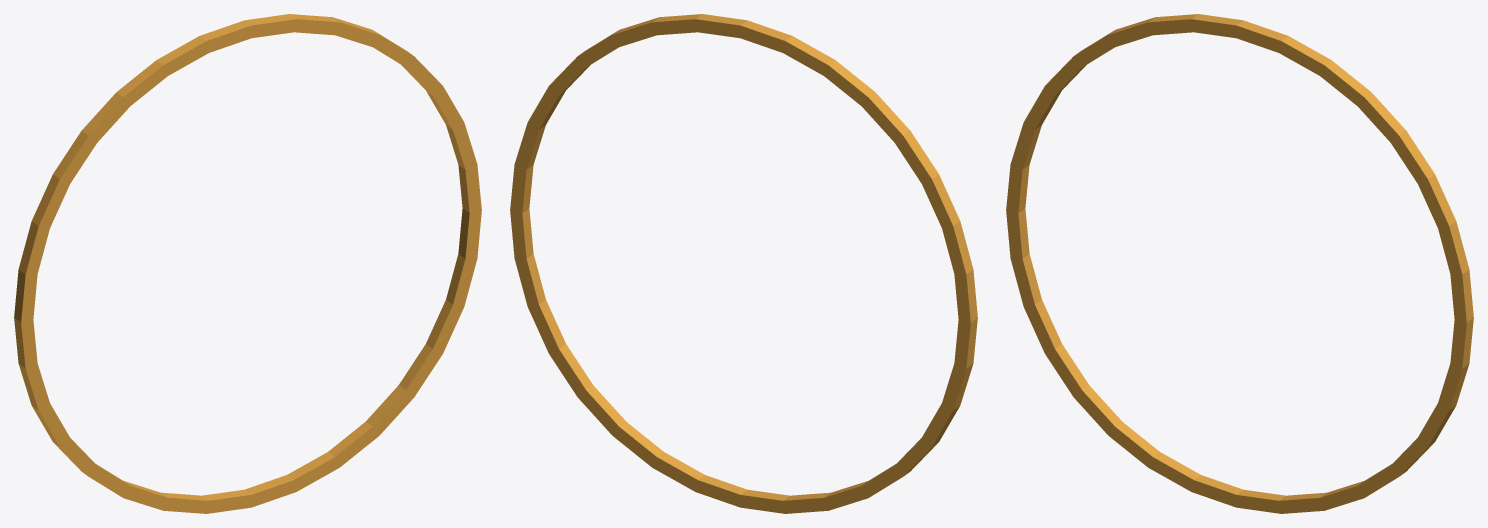
File: orbit-inner.obj
3 views of the same model, side by side, from view 1: azimuth 30°, elevation 25°; view 2: azimuth 150°, elevation 25°; view 3: azimuth 330°, elevation 25° (orthographic).
Bounding box in the file's own units: 4.52 × 4.52 × 0.1202.
